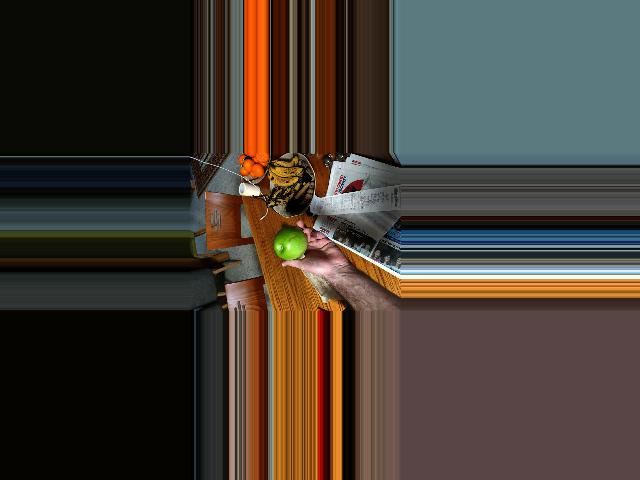apple: (271, 226, 309, 258)
